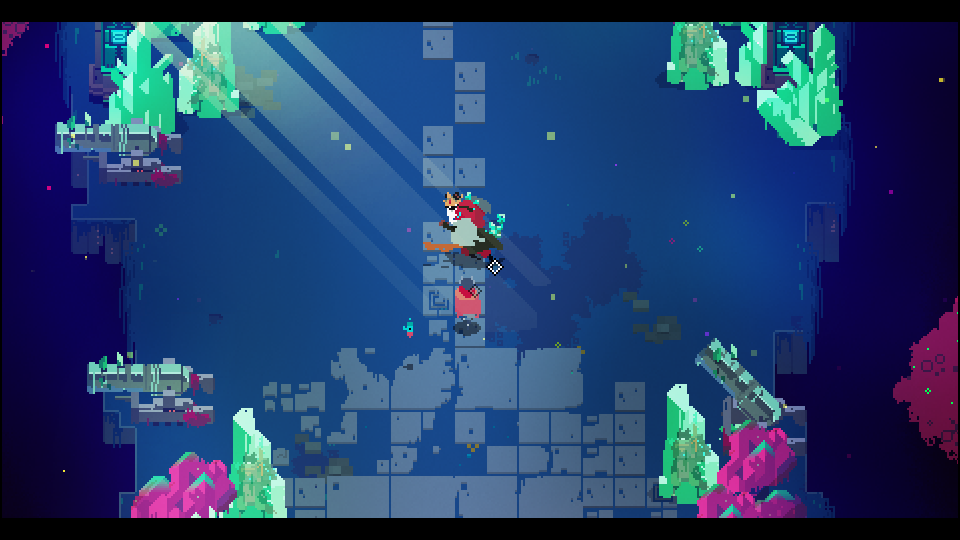hanged_man: (423, 189, 512, 257)
player: (453, 275, 481, 331)
